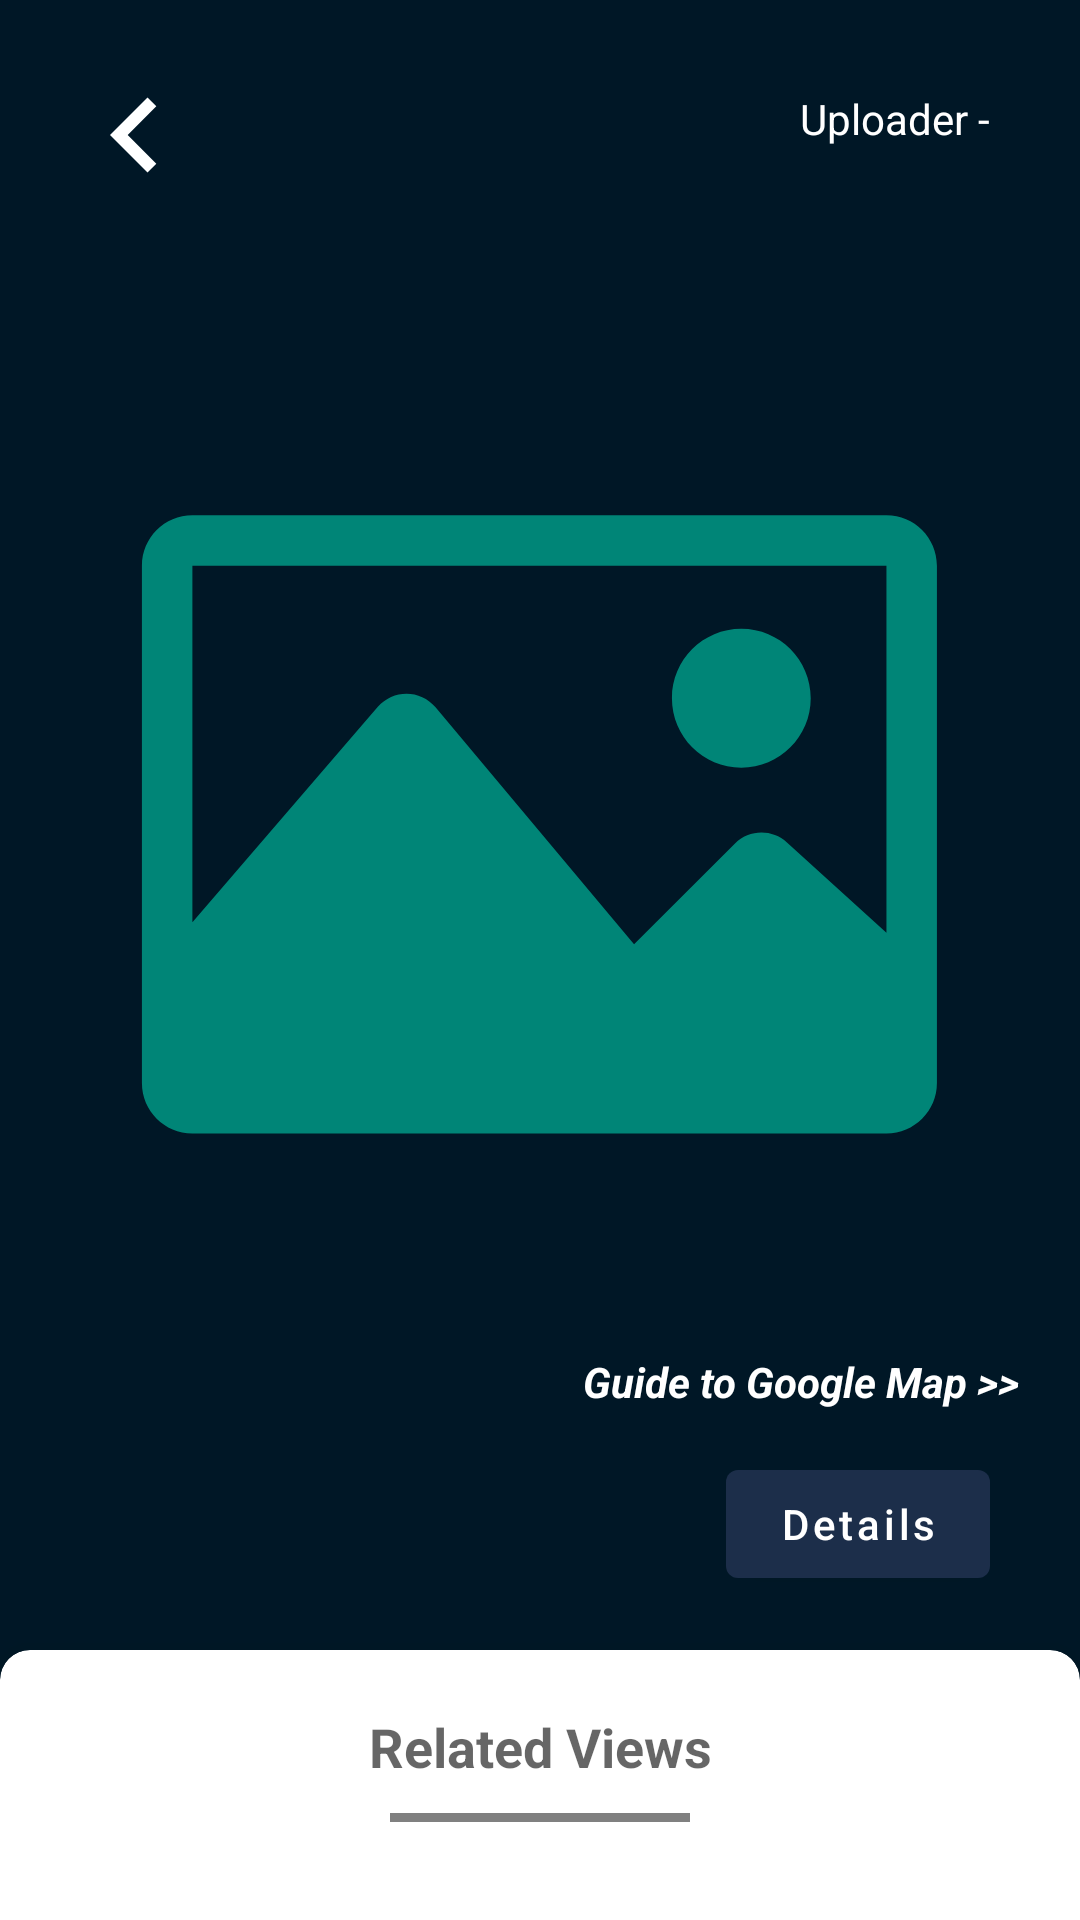

Screen size 1080×1920. Icon name, then its center in pixels as [x,y]:
navigate before: [133,135]
